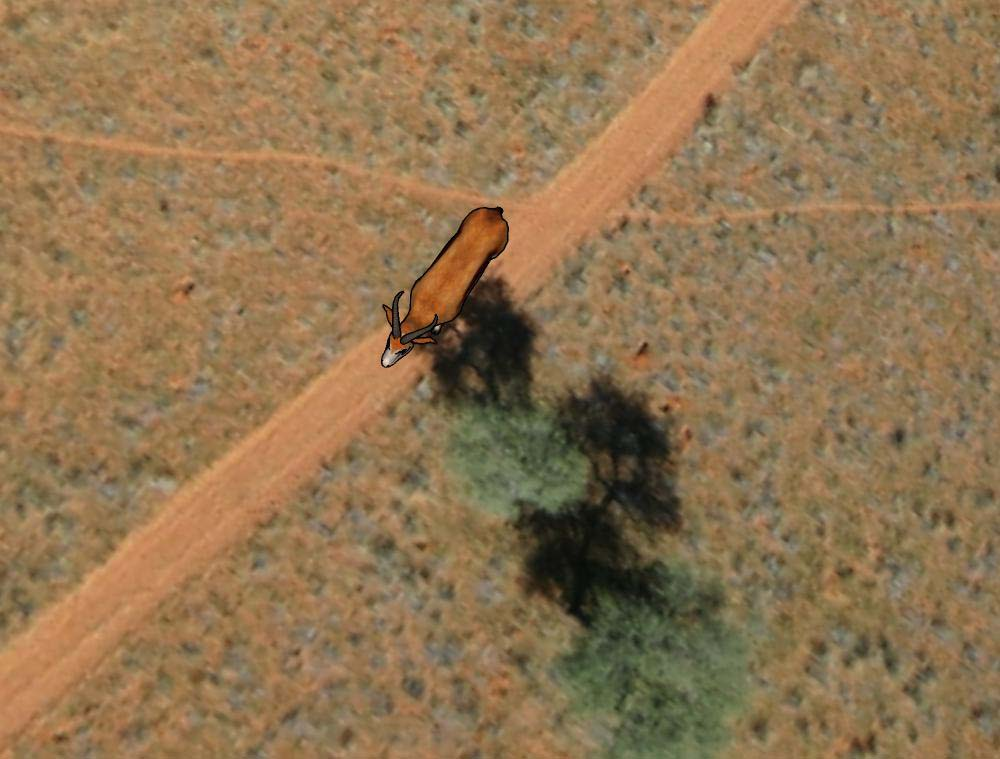springbok: (381, 203, 514, 374)
